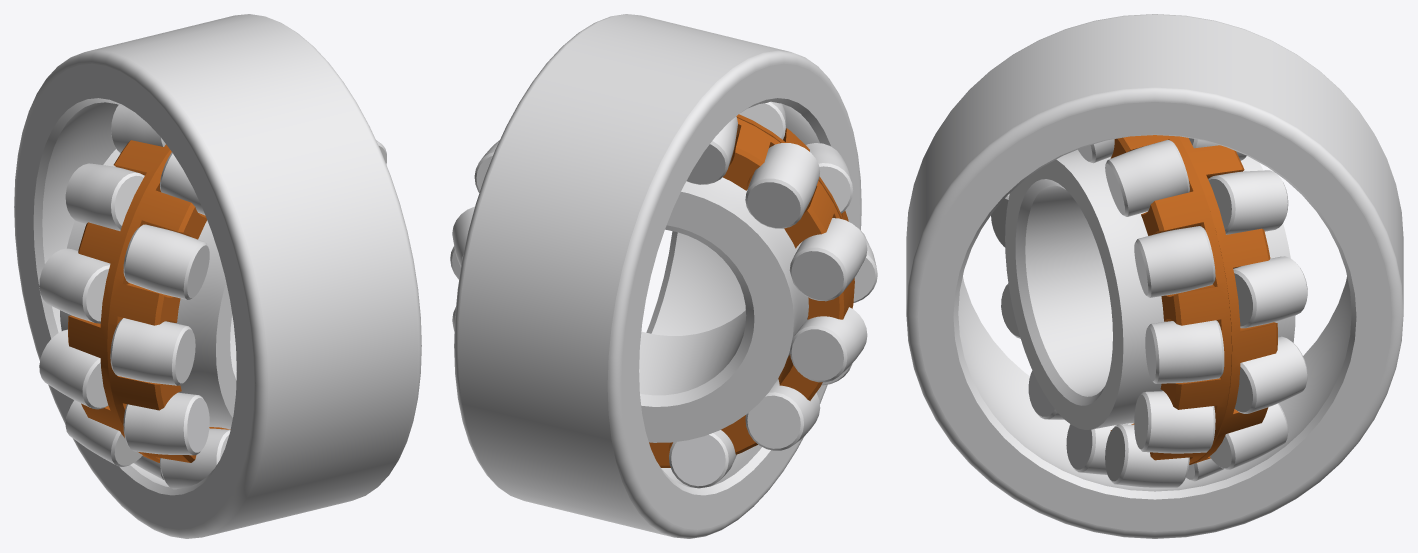
3 renders of one model, left to right at view 1: azimuth 30°, elevation 25°; view 2: azimuth 150°, elevation 25°; view 3: azimuth 270°, elevation 25°, orthographic.
Visible parts, largest first — view 1: Circle035, Cylinder015, Cylinder014, Circle038, Circle036, Circle037; view 2: Circle035, Circle036, Cylinder014, Circle037, Cylinder015, Circle038; view 3: Circle035, Circle036, Cylinder015, Cylinder014, Circle038, Circle037.
Part boxes in pixels (x1=…): Circle035: x1=14, y1=14, x2=421, y2=538; Cylinder015: x1=110, y1=140, x2=386, y2=489; Cylinder014: x1=39, y1=105, x2=165, y2=480; Circle038: x1=107, y1=150, x2=230, y2=462; Circle036: x1=60, y1=149, x2=236, y2=429; Circle037: x1=68, y1=140, x2=169, y2=462; Circle035: x1=454, y1=14, x2=861, y2=538; Circle036: x1=639, y1=177, x2=808, y2=442; Cylinder014: x1=452, y1=116, x2=867, y2=488; Circle037: x1=649, y1=118, x2=854, y2=467; Cylinder015: x1=450, y1=101, x2=877, y2=385; Circle038: x1=736, y1=114, x2=854, y2=356; Circle035: x1=906, y1=14, x2=1403, y2=538; Circle036: x1=1005, y1=149, x2=1295, y2=429; Cylinder015: x1=991, y1=139, x2=1224, y2=487; Cylinder014: x1=1186, y1=138, x2=1307, y2=481; Circle038: x1=1110, y1=135, x2=1231, y2=463; Circle037: x1=1178, y1=136, x2=1277, y2=464.
Bounding box in the file's own units: 6.05 × 7.09 × 7.09.
